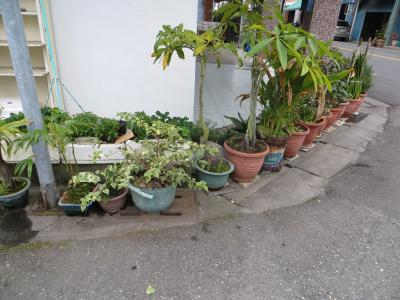styrofoam: (63, 139, 125, 163)
